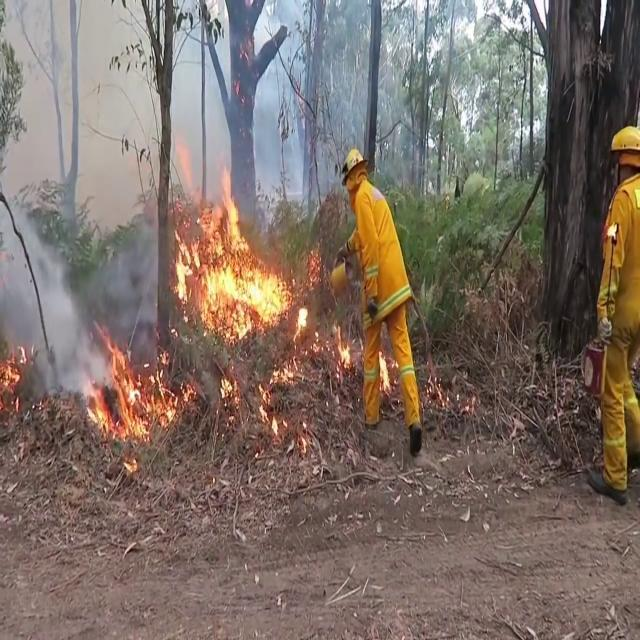Fire: (165, 170, 292, 364), (84, 327, 184, 447), (0, 335, 31, 402)
Smoke: (7, 0, 198, 252), (0, 182, 110, 405)
